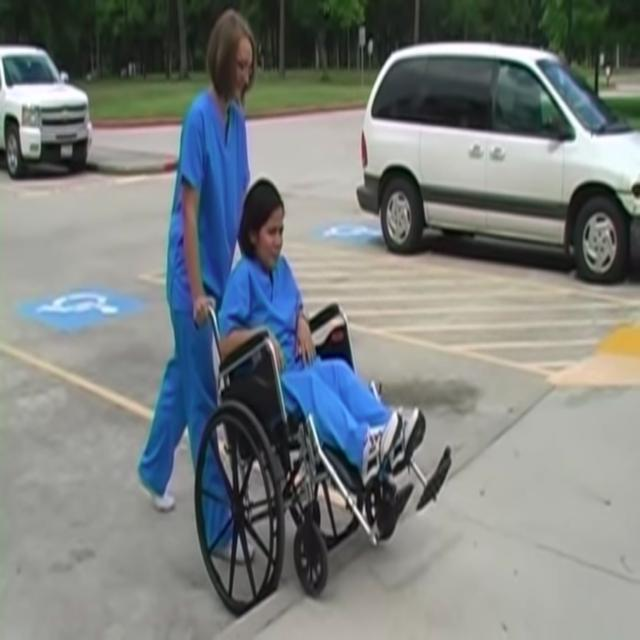wheelchairs: (184, 293, 408, 615)
